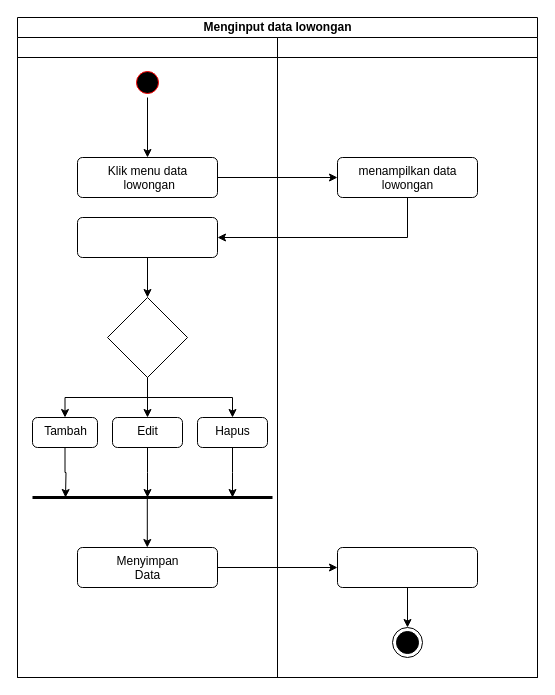
Some shapes in this 555 by 695 pixel diagram are drawn without their labels. Here are the shapes that lost their labels. From the top down, the box of each, then its label:
(76, 216, 218, 258): Mengakses data lowongan
(16, 36, 278, 678): Admin/Perusahaan
(276, 36, 538, 678): Sistem
(336, 546, 478, 588): Update Database
